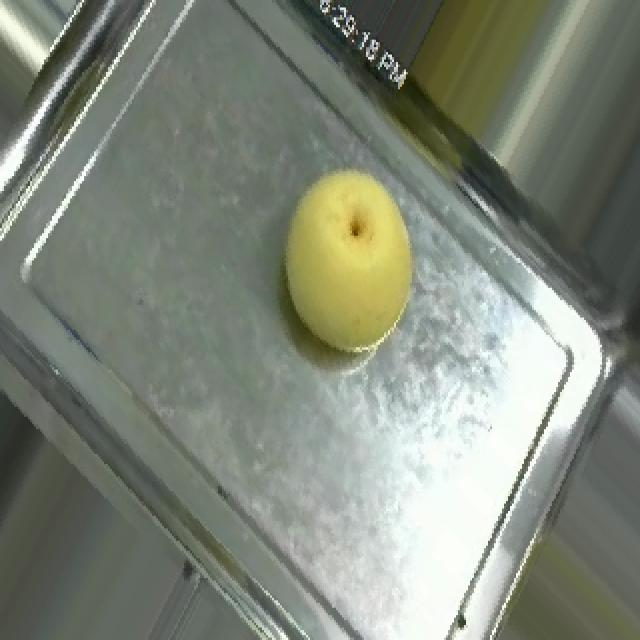Fruit: (256, 141, 448, 377)
